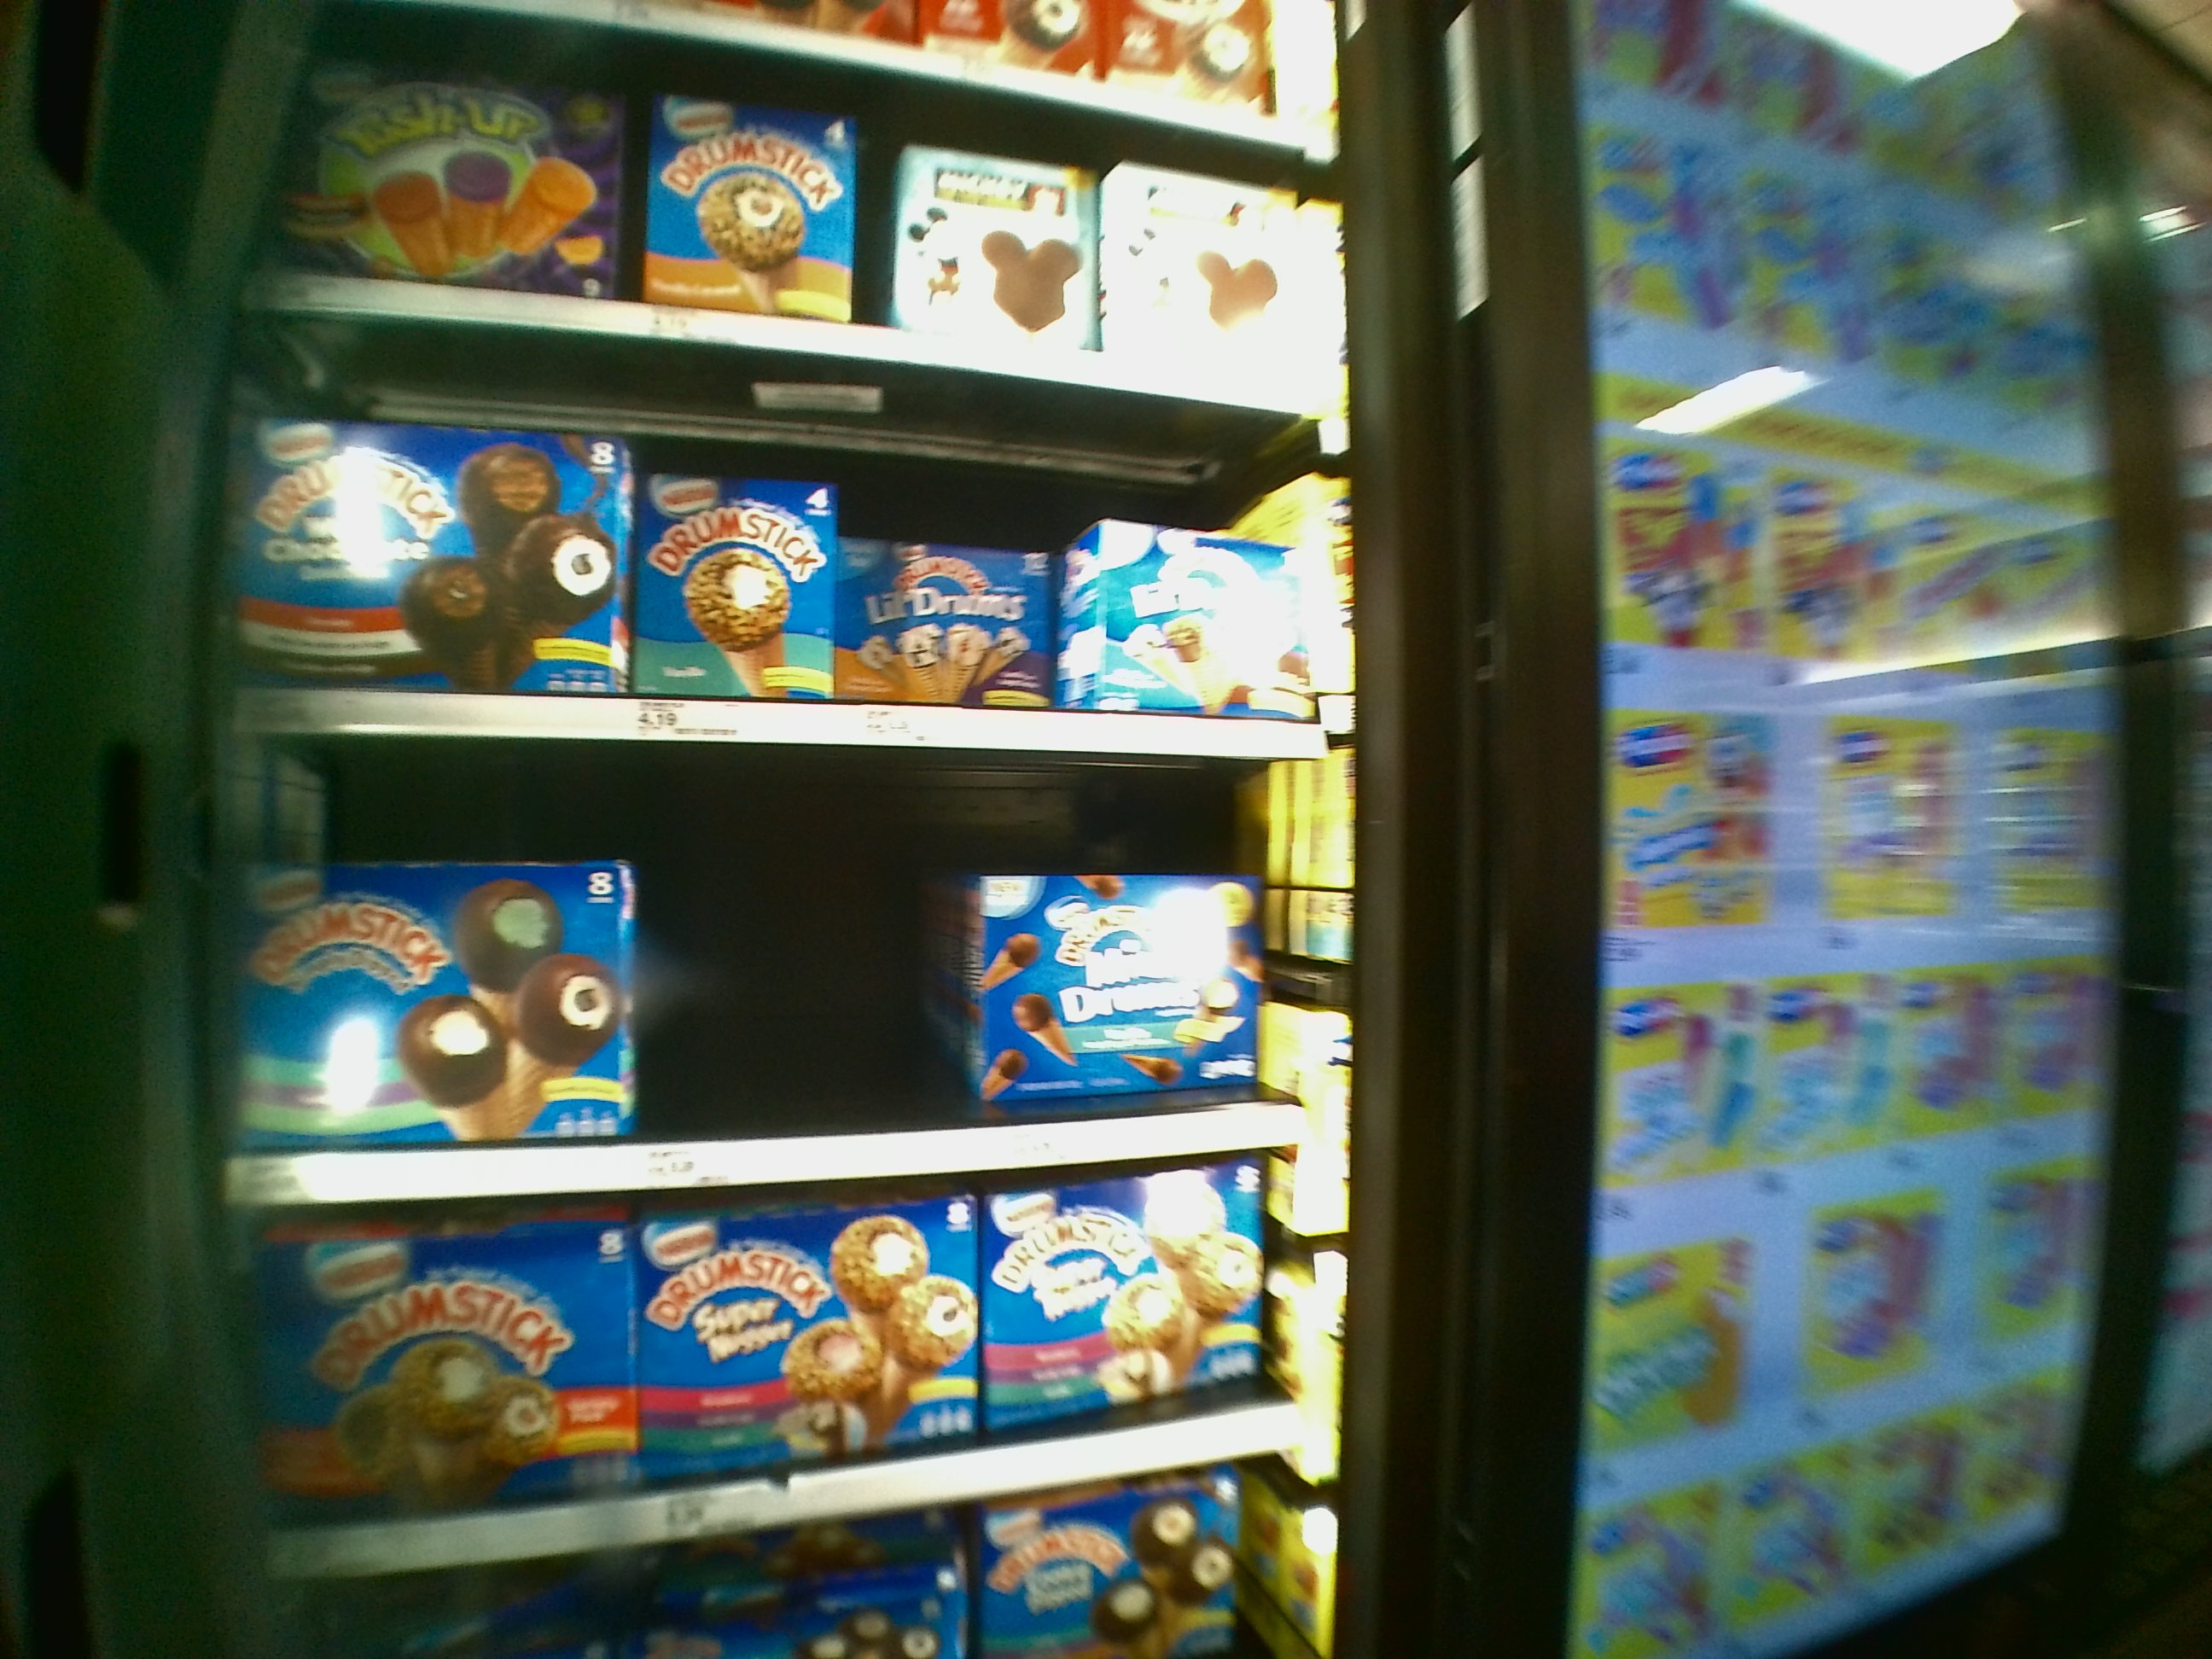shelf: (226, 749, 1317, 1206), (235, 340, 1345, 756), (265, 1211, 1317, 1549)
